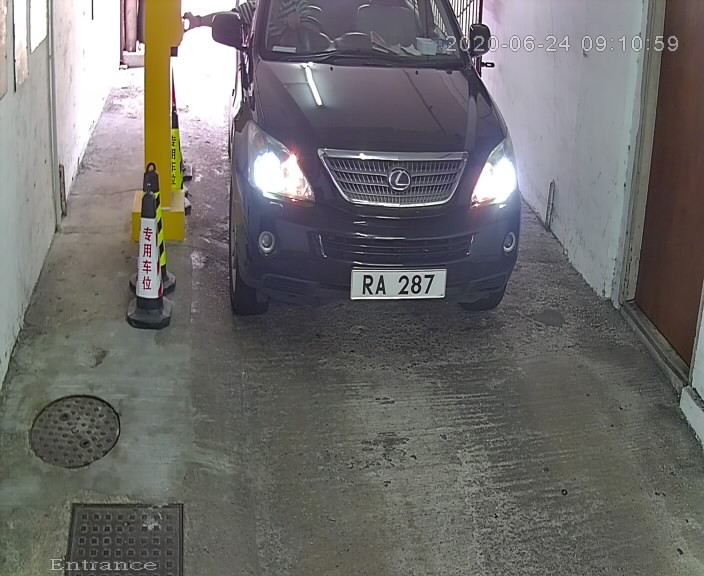Car: (216, 1, 529, 337)
License Plate: (341, 259, 455, 305)
